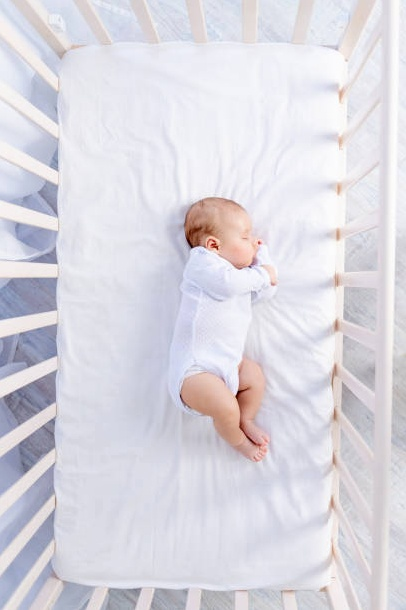baby: (169, 197, 276, 460)
crib: (319, 0, 397, 609)
